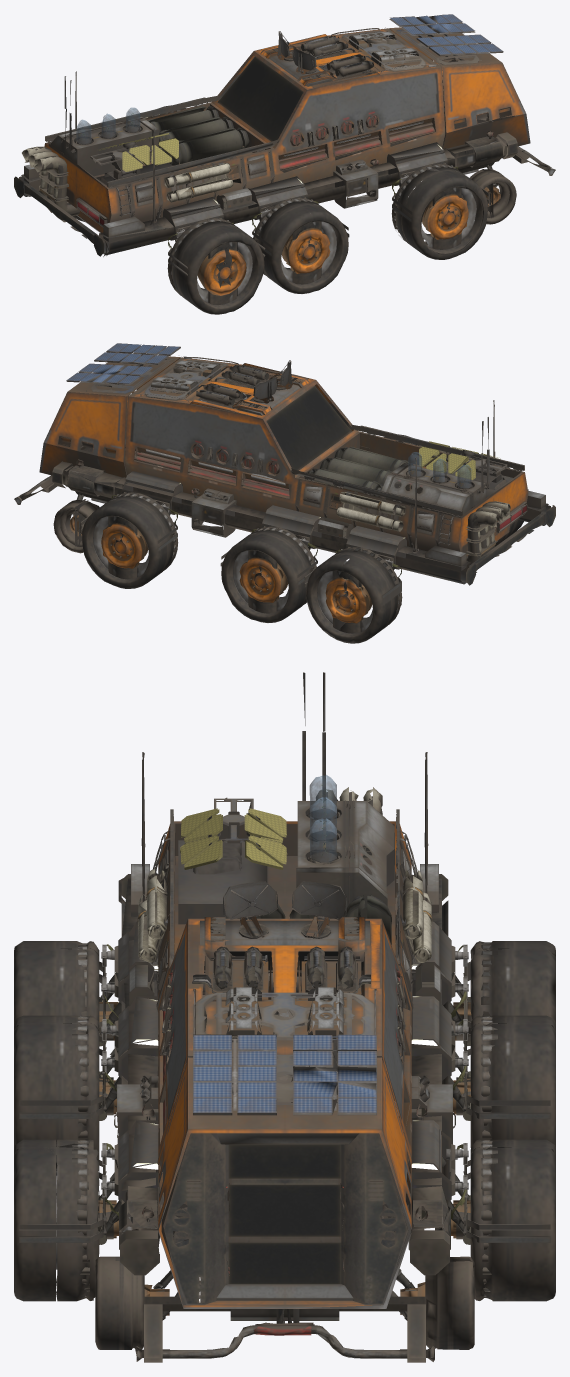
File: rover-martien.glb
The picture shows the model from 3 angles, top to bottom: view 1: azimuth 30°, elevation 25°; view 2: azimuth 150°, elevation 25°; view 3: azimuth 270°, elevation 25°; orthographic projection. The views are drawn at different scales.
Visible parts, largest first — view 1: Cube.001, Cube.002; view 2: Cube.001, Cube.002; view 3: Cube.001, Cube.002.
Boxes of the visible parts, x1,y1,x2,y2 form: Cube.001: (14, 14, 555, 314); Cube.002: (22, 27, 481, 227); Cube.001: (14, 343, 555, 643); Cube.002: (86, 356, 527, 564); Cube.001: (14, 821, 555, 1362); Cube.002: (137, 672, 432, 1104).
Size of the model in its own units: 13.01 by 5.2 by 7.21.
2 materials, 2 textured.
